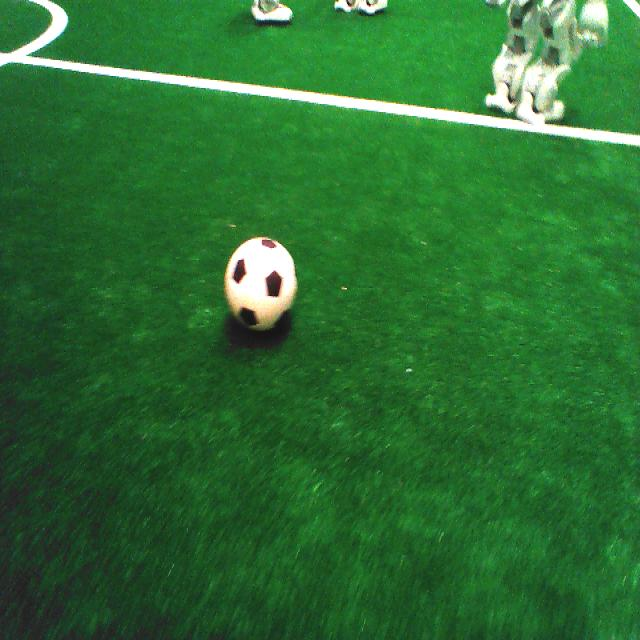ball: (223, 236, 299, 336)
